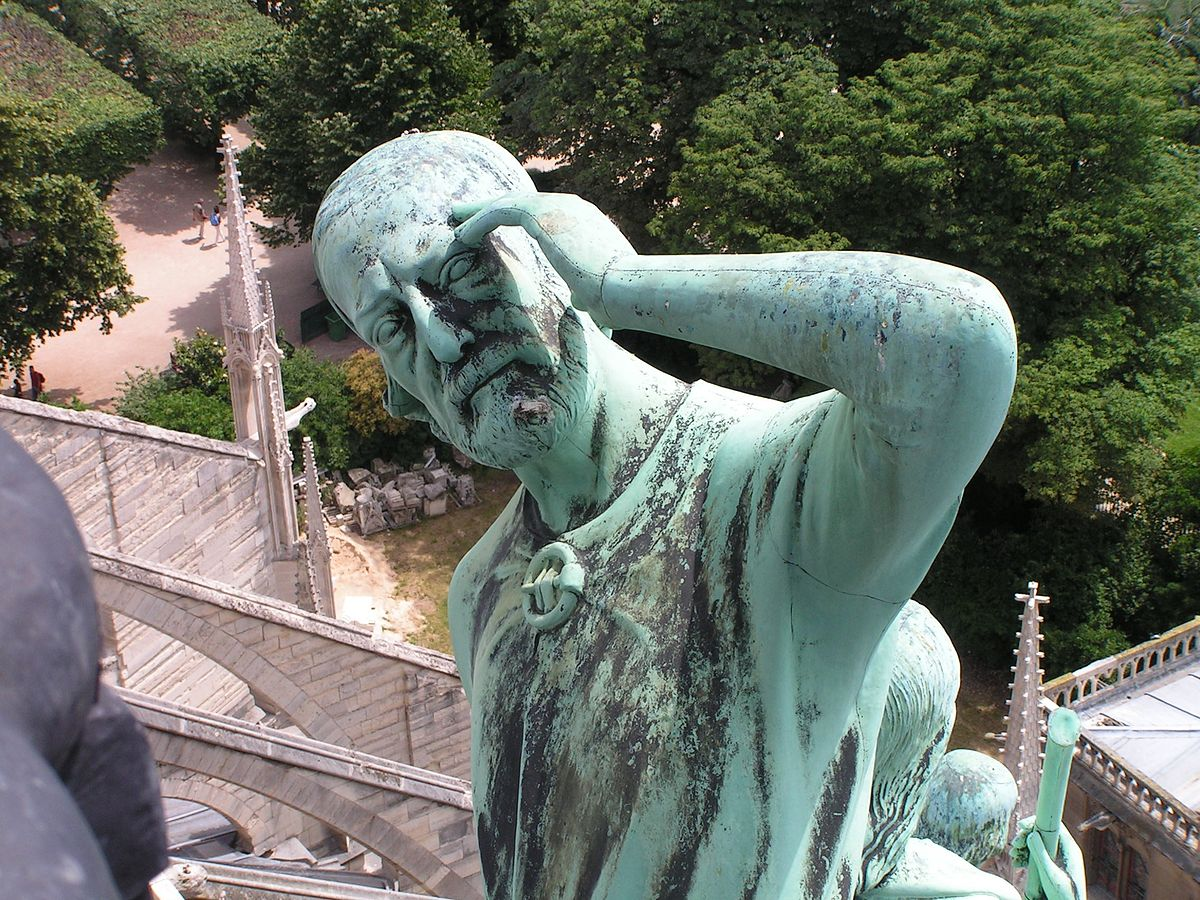person-like: (306, 129, 1025, 900)
